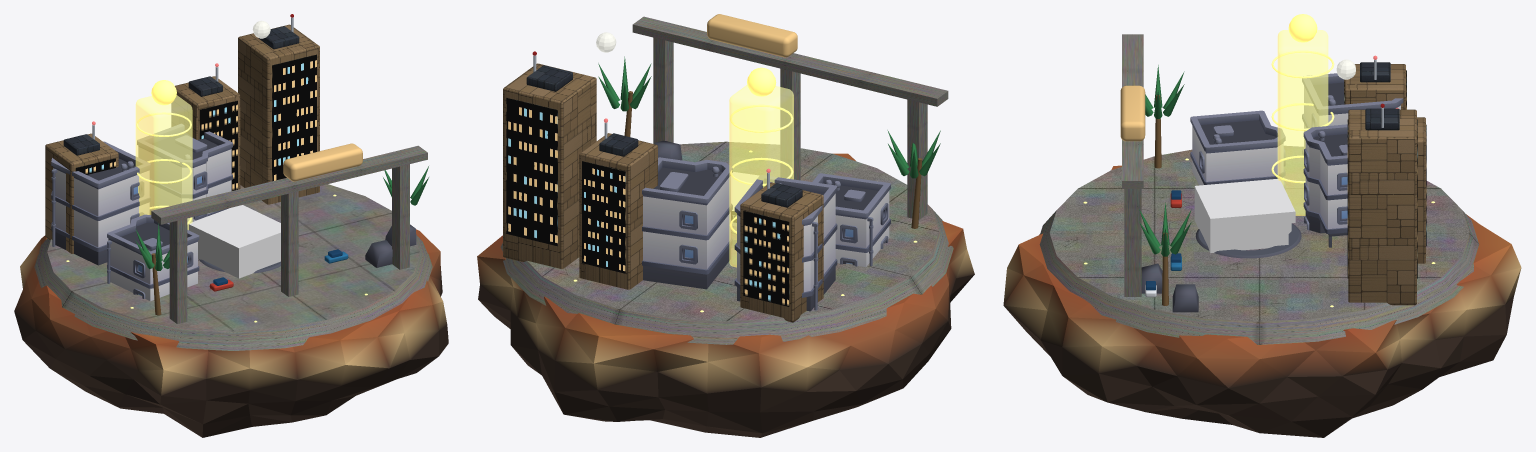
The model's file is town.glb.
3 renders of one model, left to right at view 1: azimuth 30°, elevation 25°; view 2: azimuth 150°, elevation 25°; view 3: azimuth 270°, elevation 25°, orthographic. The views are drawn at different scales.
Visible parts, largest first — view 1: object 1, object 2, building-a, object 43, object 74, building-b, Mesh_noExport, object 44, building-c, object 69, object 22, object 49 (+10 smaller); view 2: object 1, object 2, building-b, object 43, object 45, object 74, object 69, object 49, building-c, object 51, object 22, building-a (+10 smaller); view 3: object 1, object 2, object 43, object 74, Mesh_noExport, building-c, building-b, building-a, object 69, object 72, object 22, object 73 (+6 smaller).
Boxes of the visible parts, <box> form: object 1: <box>14,229,448,437</box>; object 2: <box>34,184,432,350</box>; building-a: <box>51,141,150,265</box>; object 43: <box>238,24,319,204</box>; object 74: <box>135,95,192,229</box>; building-b: <box>137,124,232,229</box>; Mesh_noExport: <box>188,205,280,278</box>; object 44: <box>272,54,316,181</box>; building-c: <box>107,214,199,300</box>; object 69: <box>151,145,427,224</box>; object 22: <box>45,133,118,253</box>; object 49: <box>171,76,240,189</box>; object 1: <box>477,153,974,437</box>; object 2: <box>500,141,953,344</box>; building-b: <box>642,157,732,289</box>; object 43: <box>503,63,596,268</box>; object 45: <box>506,97,557,246</box>; object 74: <box>729,85,793,267</box>; object 69: <box>632,16,948,106</box>; object 49: <box>579,133,657,289</box>; building-c: <box>812,173,890,266</box>; object 51: <box>582,161,625,273</box>; object 22: <box>740,182,823,322</box>; building-a: <box>734,175,837,311</box>; object 1: <box>1003,165,1521,437</box>; object 2: <box>1039,146,1478,344</box>; object 43: <box>1348,109,1416,305</box>; object 74: <box>1277,30,1328,215</box>; Mesh_noExport: <box>1194,178,1295,252</box>; building-c: <box>1190,110,1285,189</box>; building-b: <box>1303,124,1347,247</box>; building-a: <box>1302,73,1403,168</box>; object 69: <box>1122,34,1143,188</box>; object 72: <box>1124,189,1141,296</box>; object 22: <box>1344,64,1405,109</box>; object 73: <box>1120,85,1145,141</box>.
Bounding box in the file's own units: 6.79 × 5.19 × 7.16.
27 materials, 8 textured.
